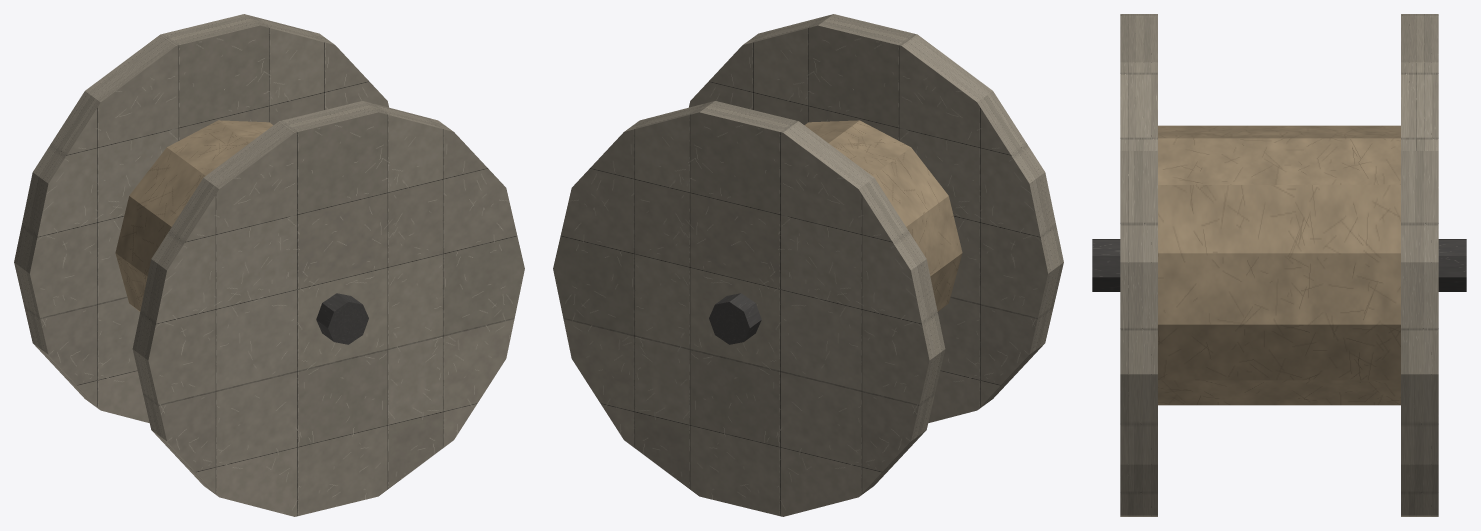
Rendered from prop_cable_spool.obj.
The picture shows the model from 3 angles, left to right: view 1: azimuth 30°, elevation 25°; view 2: azimuth 150°, elevation 25°; view 3: azimuth 270°, elevation 25°; orthographic projection. The views are drawn at different scales.
Visible parts, largest first — view 1: prop_cable_spool; view 2: prop_cable_spool; view 3: prop_cable_spool.
Part boxes in pixels (x1,y1,x2,y2): prop_cable_spool: (14, 14, 524, 516); prop_cable_spool: (553, 14, 1063, 516); prop_cable_spool: (1092, 14, 1466, 516).
Bounding box in the file's own units: 1.1 × 1.07 × 0.8.
Materials: 1 (1 with a texture image).
